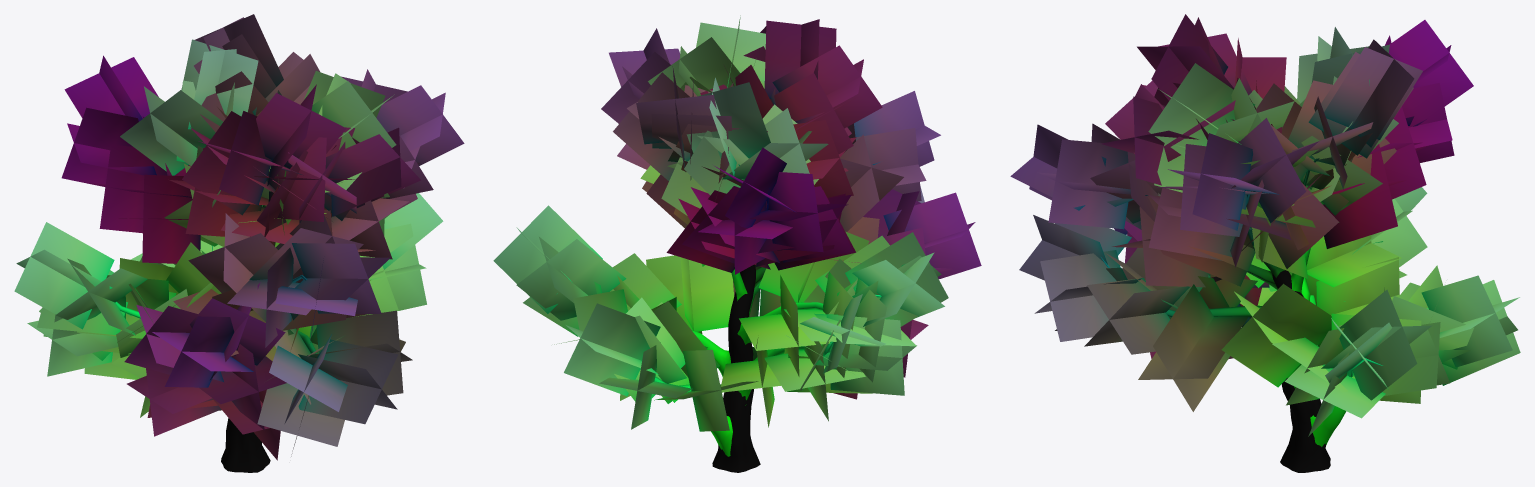
Rendered from URP_P11_Tree_10_LOD_1.fbx.
3 renders of one model, left to right at view 1: azimuth 30°, elevation 25°; view 2: azimuth 150°, elevation 25°; view 3: azimuth 270°, elevation 25°, orthographic. The views are drawn at different scales.
Parts seen in each view (by area): view 1: Tree_10_LOD_1; view 2: Tree_10_LOD_1; view 3: Tree_10_LOD_1.
Boxes of the visible parts, x1,y1,x2,y2 form: Tree_10_LOD_1: (14,14,464,472); Tree_10_LOD_1: (493,15,981,472); Tree_10_LOD_1: (1010,14,1520,472).
Size of the model in its own units: 636 by 589 by 623.
